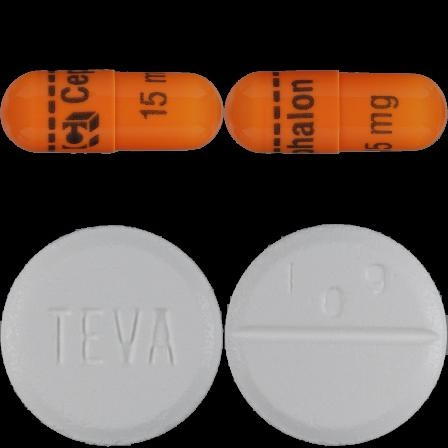21695-723: (0, 0, 224, 224)
